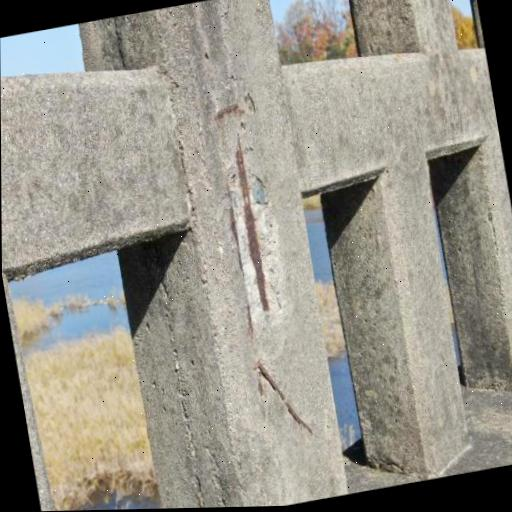exposed_rebar: (235, 135, 269, 312), (256, 360, 313, 434), (226, 184, 244, 276), (214, 103, 243, 121), (247, 303, 253, 333)
spalling: (215, 94, 284, 332)
